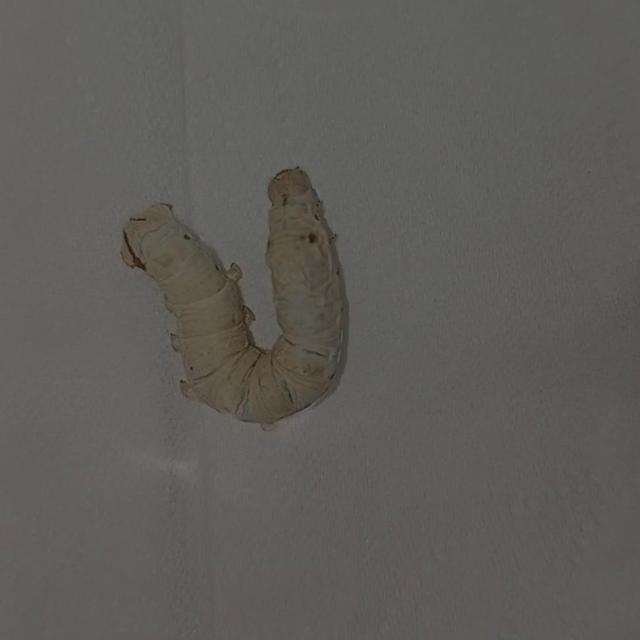Healthy: (103, 153, 378, 459)
